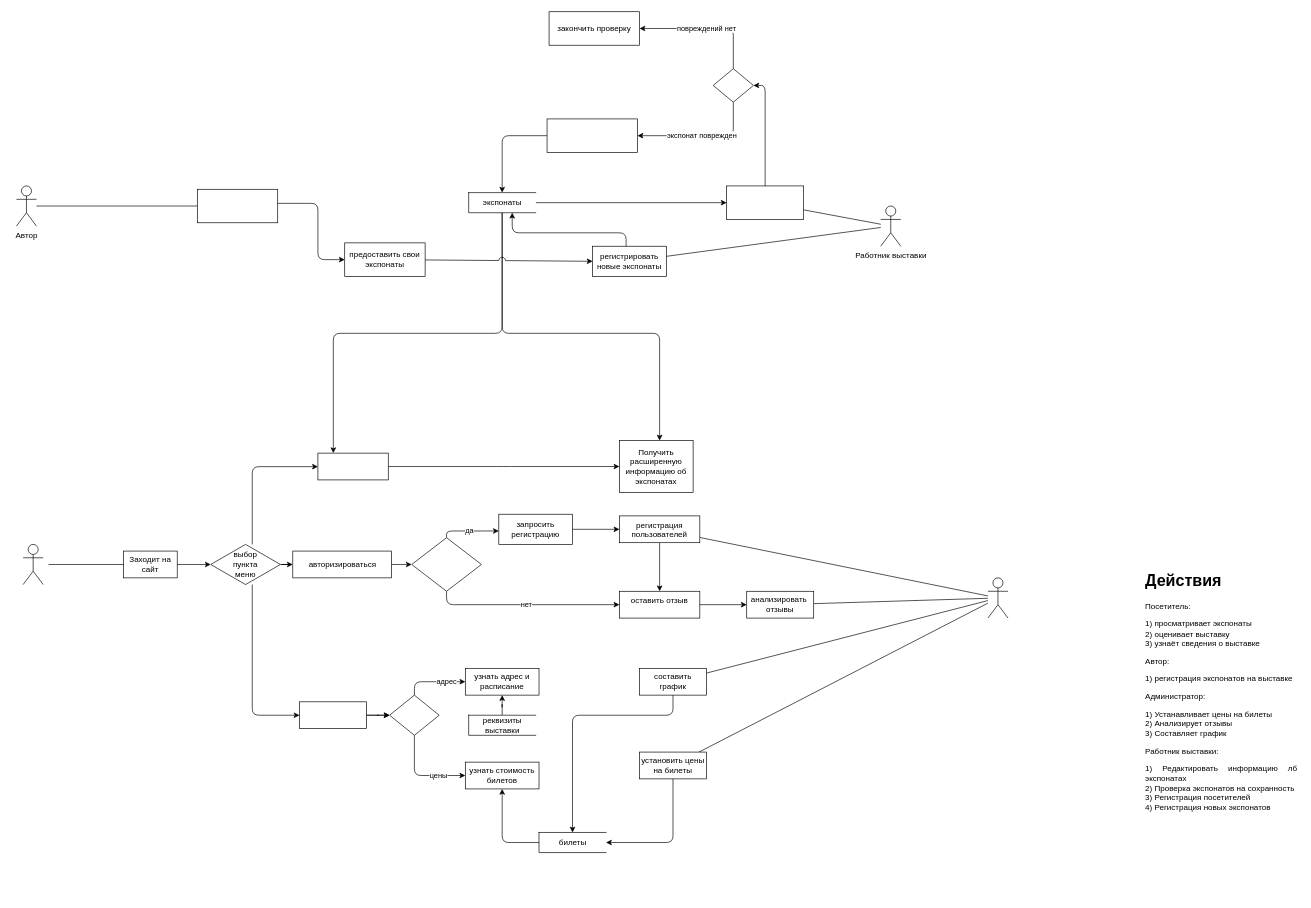
Image size: 1311x908. Some labels were removed from this diagram. The shapes that lost their labels are listed below. From the top down, each one's centre as x and y in pixels, then its label:
At point (592, 135): "редактировать информацию об экспонатах".
At point (237, 206): "зарегистрироваться на выставке".
At point (765, 202): "проверить экспонаты на сохранность".
At point (352, 466): "выбор экспонатов для просмотра".
At point (32, 564): "Посетитель".
At point (446, 564): "новый пользователь".
At point (997, 597): "Администратор".
At point (332, 715): "узнать сведения о выставке".
